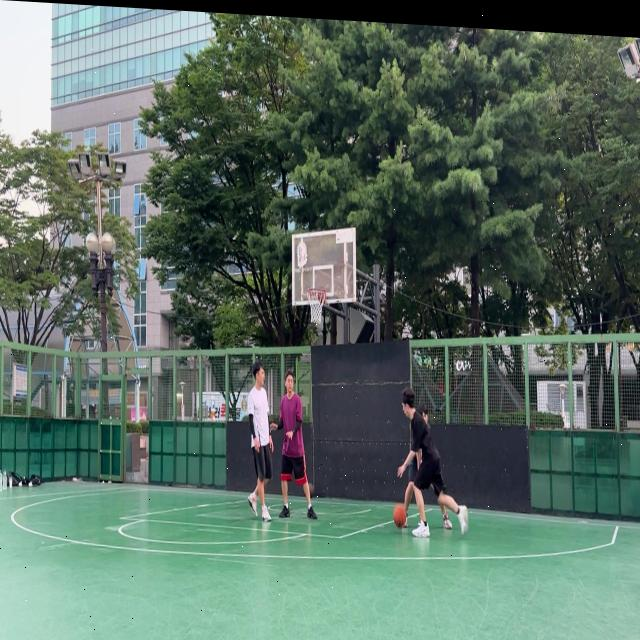basketball: (393, 502, 406, 527), (308, 482, 315, 499)
hoop: (307, 288, 326, 325)
